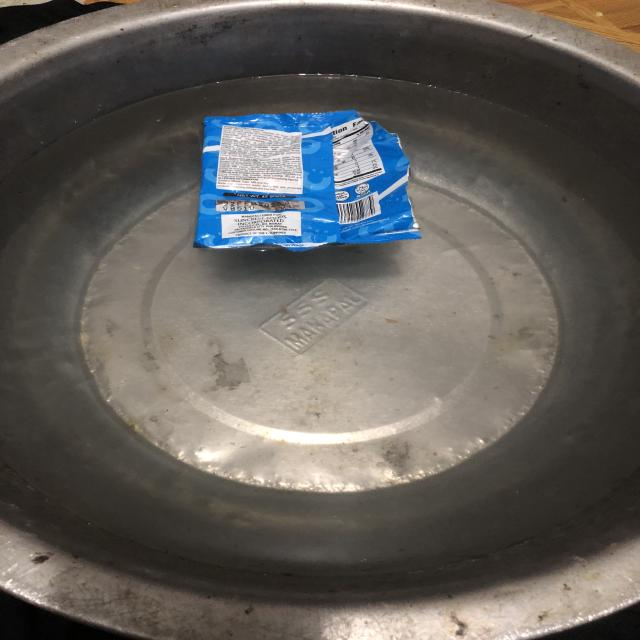Plastic Wrapper: (182, 99, 444, 271)
